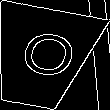O_S: (8, 28, 75, 87)
